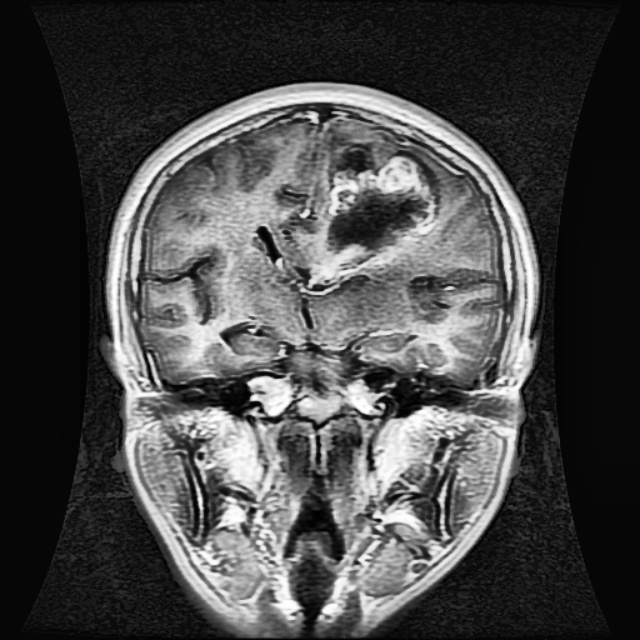Glioma: (308, 137, 438, 285)
